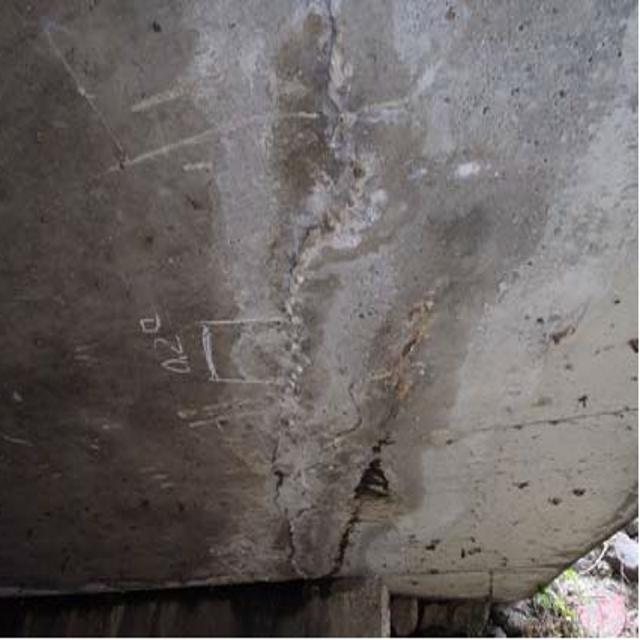freelime: (240, 20, 414, 581)
